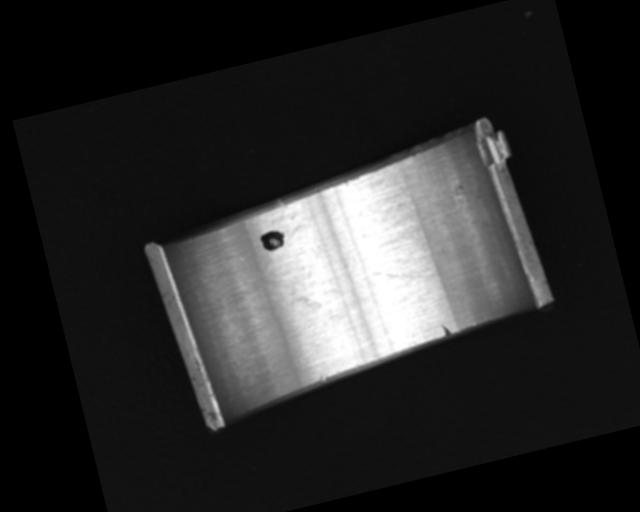blot: (263, 264, 324, 320), (257, 227, 288, 254)
bruise: (439, 321, 452, 337), (317, 374, 327, 383)
